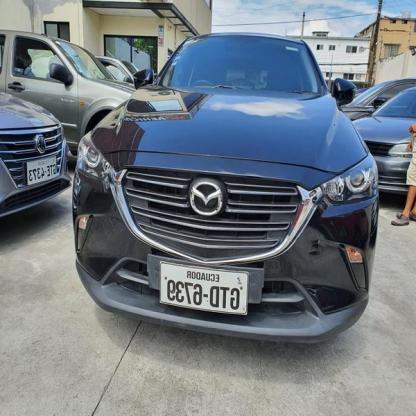Placa: (155, 262, 253, 314)
